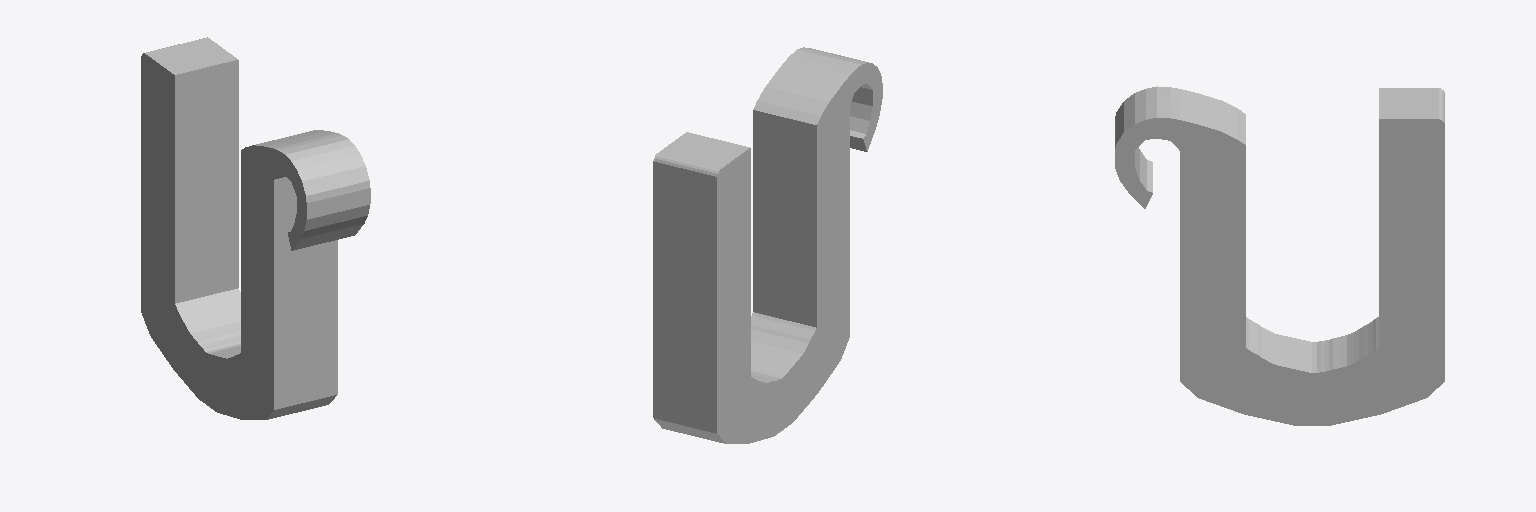
Rendered from letter4.obj.
3 renders of one model, left to right at view 1: azimuth 30°, elevation 25°; view 2: azimuth 150°, elevation 25°; view 3: azimuth 270°, elevation 25°, orthographic.
Parts seen in each view (by area): view 1: pCube1; view 2: pCube1; view 3: pCube1.
Part boxes in pixels (left/top/right/bottom): pCube1: left=141, top=37, right=370, bottom=419; pCube1: left=653, top=47, right=882, bottom=443; pCube1: left=1115, top=86, right=1444, bottom=425.
Bounding box in the file's own units: 1 × 4.61 × 4.48.